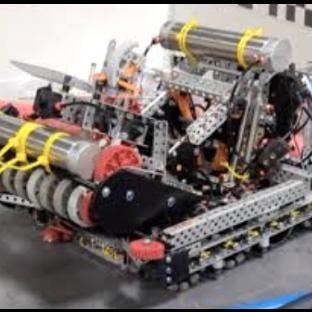Robot: (0, 20, 311, 291)
